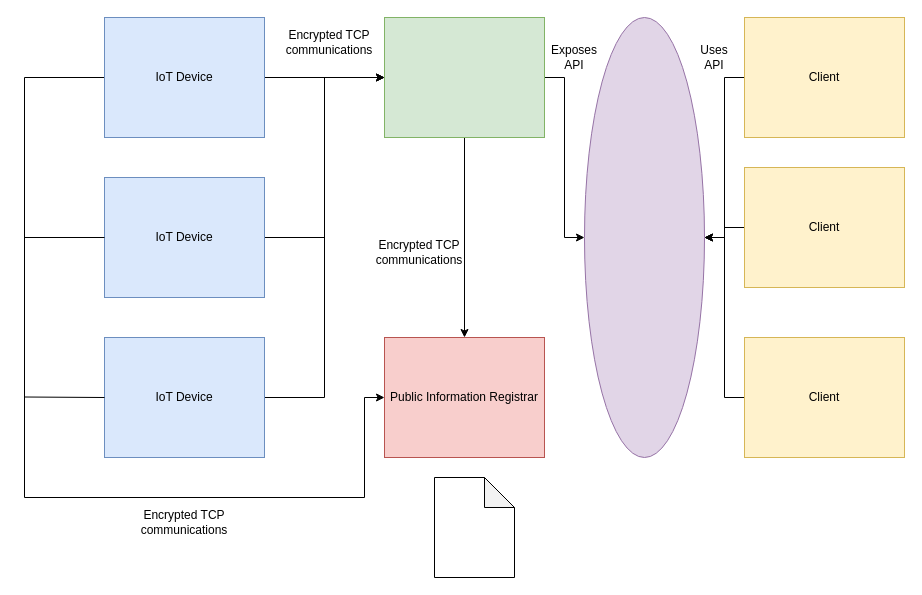
This 922x595 diagram has some shape labels left out. Here are the shapes that lost their labels. From the top down, the box of each, then its label:
(384, 16, 544, 138): Command and Control Server
(584, 16, 704, 458): API
(434, 476, 514, 578): Holds all public keys.
